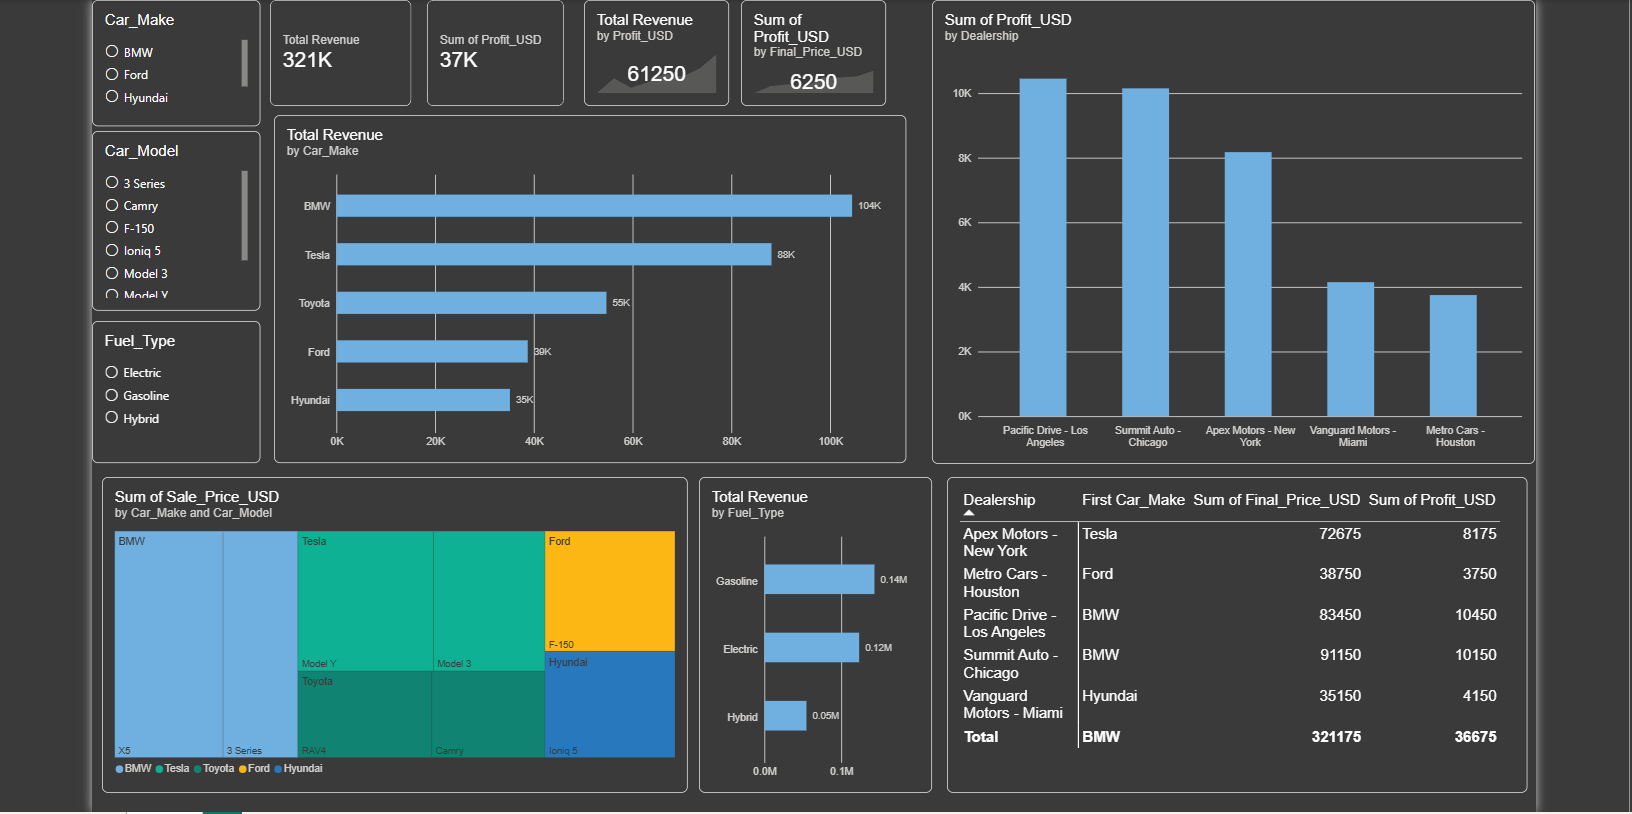

Layout of this report page (visuals, bound fields, positions):
{"tool":"powerbi","page":{"name":"Page 1","canvas":[1920,1080],"ordinal":0},"visuals":[{"type":"cardVisual","fields":{"Data":["Automobile-Sales-Analytics-PowerBI_automobile_sales_cleaned.Total Revenue"]},"box":[236.4,0,188.2,141.5],"z":0},{"type":"cardVisual","fields":{"Data":["Sum(Automobile-Sales-Analytics-PowerBI_automobile_sales_cleaned.Profit_USD)"]},"box":[446,0,182.4,141.5],"z":1000},{"type":"barChart","fields":{"Category":["Automobile-Sales-Analytics-PowerBI_automobile_sales_cleaned.Car_Make"],"Y":["Automobile-Sales-Analytics-PowerBI_automobile_sales_cleaned.Total Revenue"]},"box":[241.8,153.1,840.9,463.4],"z":2000},{"type":"clusteredBarChart","fields":{"Category":["Automobile-Sales-Analytics-PowerBI_automobile_sales_cleaned.Fuel_Type"],"Y":["Automobile-Sales-Analytics-PowerBI_automobile_sales_cleaned.Total Revenue"]},"box":[807.3,634,310.3,420.4],"z":3000},{"type":"columnChart","fields":{"Category":["Automobile-Sales-Analytics-PowerBI_automobile_sales_cleaned.Dealership"],"Y":["Sum(Automobile-Sales-Analytics-PowerBI_automobile_sales_cleaned.Profit_USD)"]},"box":[1117.6,0,801.9,616.6],"z":4000},{"type":"pivotTable","fields":{"Rows":["Automobile-Sales-Analytics-PowerBI_automobile_sales_cleaned.Dealership"],"Values":["Min(Automobile-Sales-Analytics-PowerBI_automobile_sales_cleaned.Car_Make)","Sum(Automobile-Sales-Analytics-PowerBI_automobile_sales_cleaned.Final_Price_USD)","Sum(Automobile-Sales-Analytics-PowerBI_automobile_sales_cleaned.Profit_USD)"]},"box":[1137.8,634,772.4,420.4],"z":4001},{"type":"kpi","fields":{"TrendLine":["Automobile-Sales-Analytics-PowerBI_automobile_sales_cleaned.Final_Price_USD"],"Indicator":["Sum(Automobile-Sales-Analytics-PowerBI_automobile_sales_cleaned.Profit_USD)"]},"box":[863.7,0,193.4,141],"z":4004},{"type":"kpi","fields":{"Indicator":["Automobile-Sales-Analytics-PowerBI_automobile_sales_cleaned.Total Revenue"],"TrendLine":["Automobile-Sales-Analytics-PowerBI_automobile_sales_cleaned.Profit_USD"]},"box":[654.2,0,193.4,141],"z":4005},{"type":"treemap","fields":{"Group":["Automobile-Sales-Analytics-PowerBI_automobile_sales_cleaned.Car_Make"],"Details":["Automobile-Sales-Analytics-PowerBI_automobile_sales_cleaned.Car_Model"],"Values":["Sum(Automobile-Sales-Analytics-PowerBI_automobile_sales_cleaned.Sale_Price_USD)"]},"box":[13.4,634,779.1,420.4],"z":4006},{"type":"listSlicer","fields":{"Values":["Automobile-Sales-Analytics-PowerBI_automobile_sales_cleaned.Car_Make"]},"box":[0,0,224.3,167.9],"z":4007},{"type":"listSlicer","fields":{"Values":["Automobile-Sales-Analytics-PowerBI_automobile_sales_cleaned.Car_Model"]},"box":[0,174.6,224.3,239.1],"z":4008},{"type":"listSlicer","fields":{"Values":["Automobile-Sales-Analytics-PowerBI_automobile_sales_cleaned.Fuel_Type"]},"box":[0,427.2,224.3,189.4],"z":4009}]}

Visuals, with their boxes on the page's 1920x1080 design canvas (x1, y1, x2, y2). These are canvas units, not pixel positions in the 1632x814 screenshot, which may show the page scaled, cropped or inside an application window:
cardVisual - Automobile-Sales-Analytics-PowerBI_automobile_sales_cleaned.Total Revenue: left=236, top=0, right=425, bottom=142
cardVisual - Sum(Automobile-Sales-Analytics-PowerBI_automobile_sales_cleaned.Profit_USD): left=446, top=0, right=628, bottom=142
barChart - Automobile-Sales-Analytics-PowerBI_automobile_sales_cleaned.Car_Make x Automobile-Sales-Analytics-PowerBI_automobile_sales_cleaned.Total Revenue: left=242, top=153, right=1083, bottom=616
clusteredBarChart - Automobile-Sales-Analytics-PowerBI_automobile_sales_cleaned.Fuel_Type x Automobile-Sales-Analytics-PowerBI_automobile_sales_cleaned.Total Revenue: left=807, top=634, right=1118, bottom=1054
columnChart - Automobile-Sales-Analytics-PowerBI_automobile_sales_cleaned.Dealership x Sum(Automobile-Sales-Analytics-PowerBI_automobile_sales_cleaned.Profit_USD): left=1118, top=0, right=1920, bottom=617
pivotTable - Automobile-Sales-Analytics-PowerBI_automobile_sales_cleaned.Dealership x Min(Automobile-Sales-Analytics-PowerBI_automobile_sales_cleaned.Car_Make): left=1138, top=634, right=1910, bottom=1054
kpi - Automobile-Sales-Analytics-PowerBI_automobile_sales_cleaned.Final_Price_USD x Sum(Automobile-Sales-Analytics-PowerBI_automobile_sales_cleaned.Profit_USD): left=864, top=0, right=1057, bottom=141
kpi - Automobile-Sales-Analytics-PowerBI_automobile_sales_cleaned.Total Revenue x Automobile-Sales-Analytics-PowerBI_automobile_sales_cleaned.Profit_USD: left=654, top=0, right=848, bottom=141
treemap - Automobile-Sales-Analytics-PowerBI_automobile_sales_cleaned.Car_Make x Automobile-Sales-Analytics-PowerBI_automobile_sales_cleaned.Car_Model: left=13, top=634, right=792, bottom=1054
listSlicer - Automobile-Sales-Analytics-PowerBI_automobile_sales_cleaned.Car_Make: left=0, top=0, right=224, bottom=168
listSlicer - Automobile-Sales-Analytics-PowerBI_automobile_sales_cleaned.Car_Model: left=0, top=175, right=224, bottom=414
listSlicer - Automobile-Sales-Analytics-PowerBI_automobile_sales_cleaned.Fuel_Type: left=0, top=427, right=224, bottom=617
